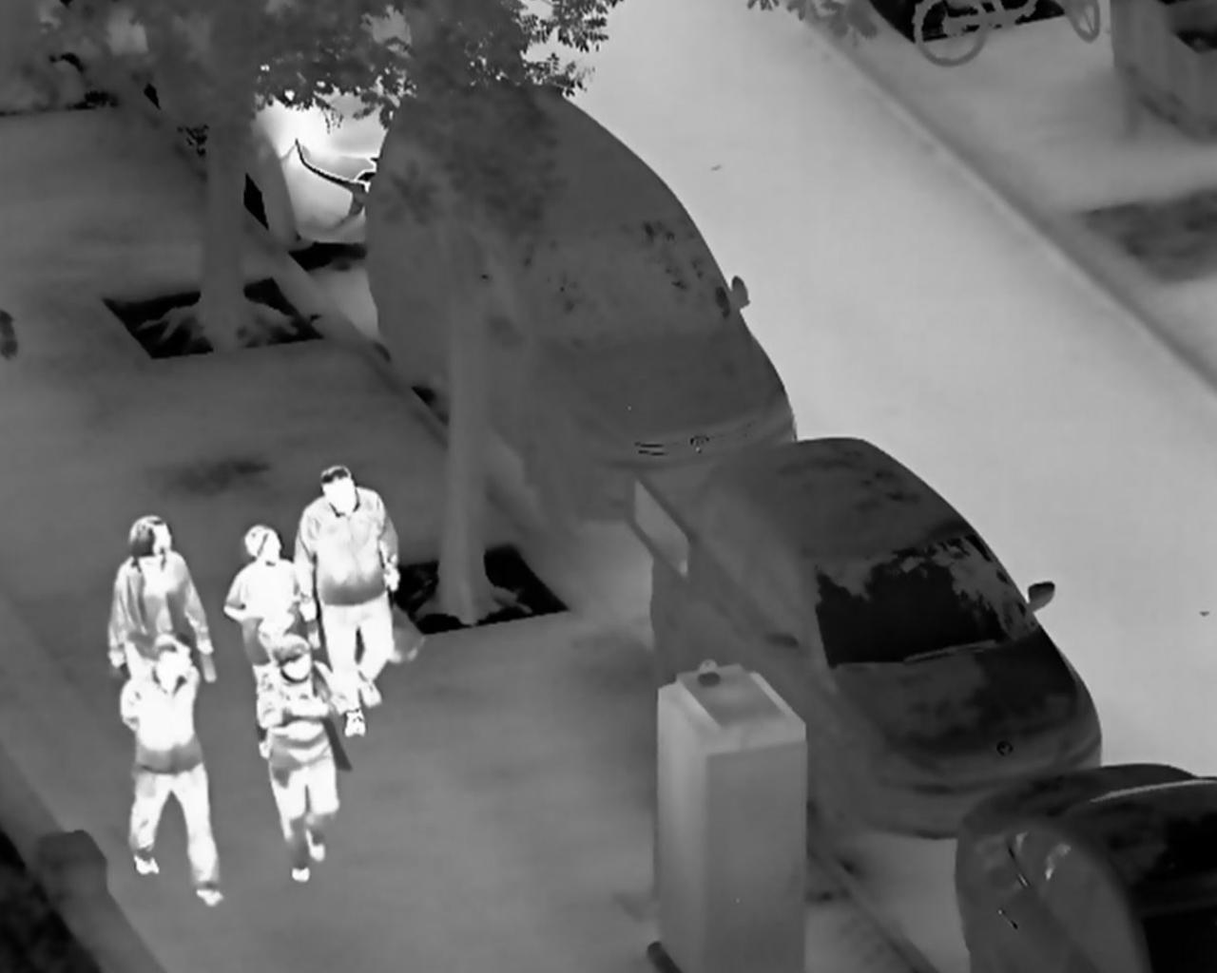person: (115, 631, 224, 909), (292, 467, 399, 741), (220, 521, 327, 759), (251, 634, 352, 885), (108, 514, 217, 699)
